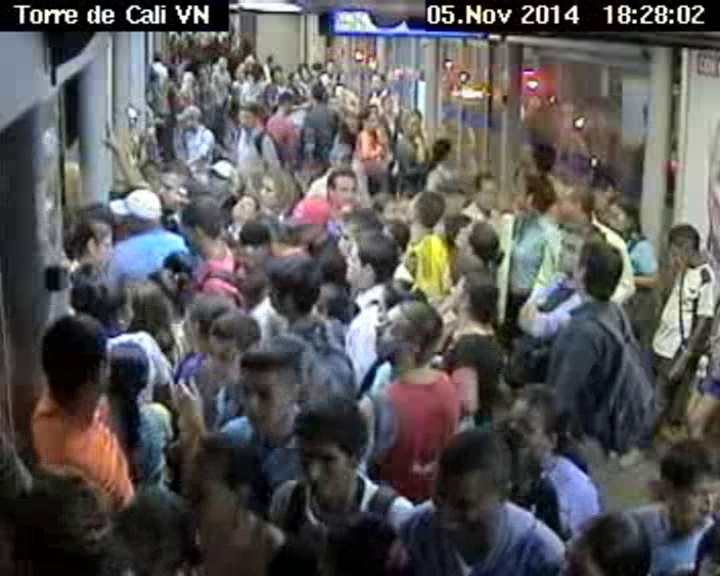person: (425, 423, 510, 546), (15, 454, 115, 547), (286, 390, 365, 498), (107, 480, 196, 575), (546, 503, 660, 576), (178, 437, 262, 523), (651, 429, 720, 530), (503, 378, 577, 472), (32, 314, 110, 403), (370, 299, 436, 374), (257, 258, 325, 329), (71, 260, 138, 327), (567, 239, 625, 308), (339, 228, 404, 288), (174, 194, 226, 261), (443, 268, 498, 331), (105, 337, 155, 406), (660, 215, 710, 279), (128, 267, 168, 344), (207, 317, 252, 379), (453, 218, 501, 276), (186, 291, 226, 358), (233, 219, 267, 297), (110, 183, 160, 236), (556, 222, 606, 275), (403, 186, 446, 236), (256, 156, 297, 208), (76, 216, 117, 264), (322, 167, 360, 216), (513, 174, 553, 220), (558, 183, 593, 229), (289, 198, 335, 230), (159, 158, 192, 202), (514, 138, 555, 173), (473, 168, 502, 214), (587, 171, 617, 212), (205, 156, 239, 190), (606, 200, 639, 235), (227, 189, 259, 222), (370, 192, 400, 226), (400, 108, 423, 140), (237, 100, 260, 129), (429, 135, 452, 163), (370, 71, 390, 99), (179, 105, 201, 130), (357, 110, 381, 132), (310, 83, 333, 105), (275, 90, 293, 116), (190, 65, 208, 85), (286, 70, 300, 87), (216, 56, 227, 72), (268, 70, 281, 81)
